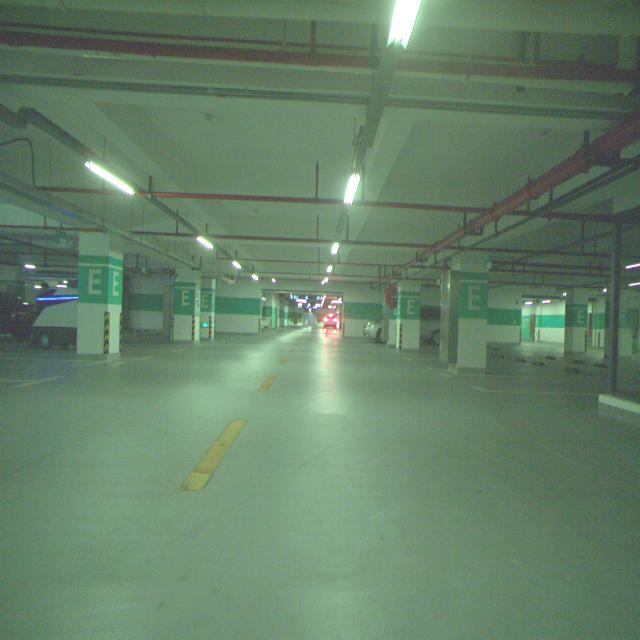pillar: (76, 233, 122, 355), (172, 270, 201, 341), (395, 281, 421, 348), (564, 289, 588, 353)
